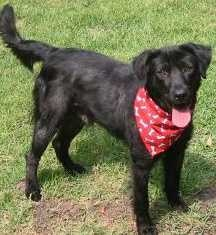dog: (9, 15, 197, 217)
